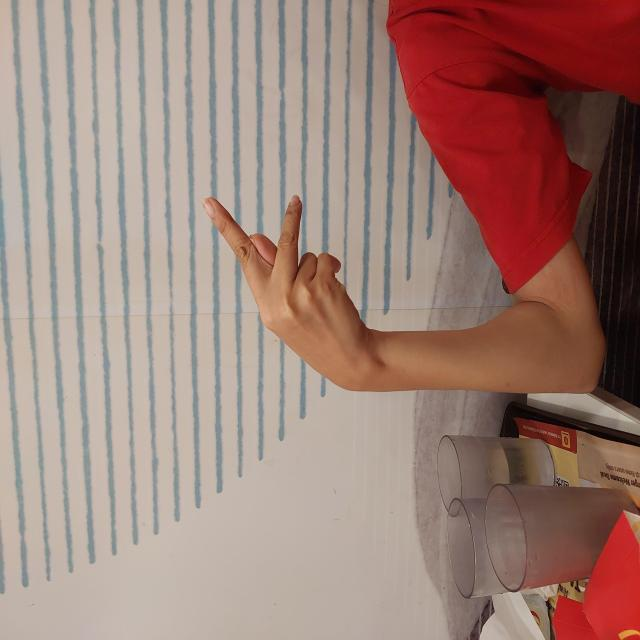K: (248, 200, 448, 369)
